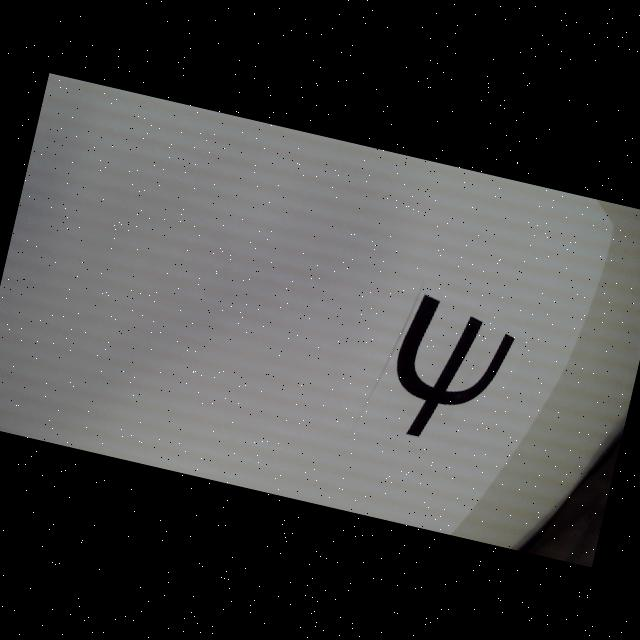PSI: (381, 290, 520, 452)
